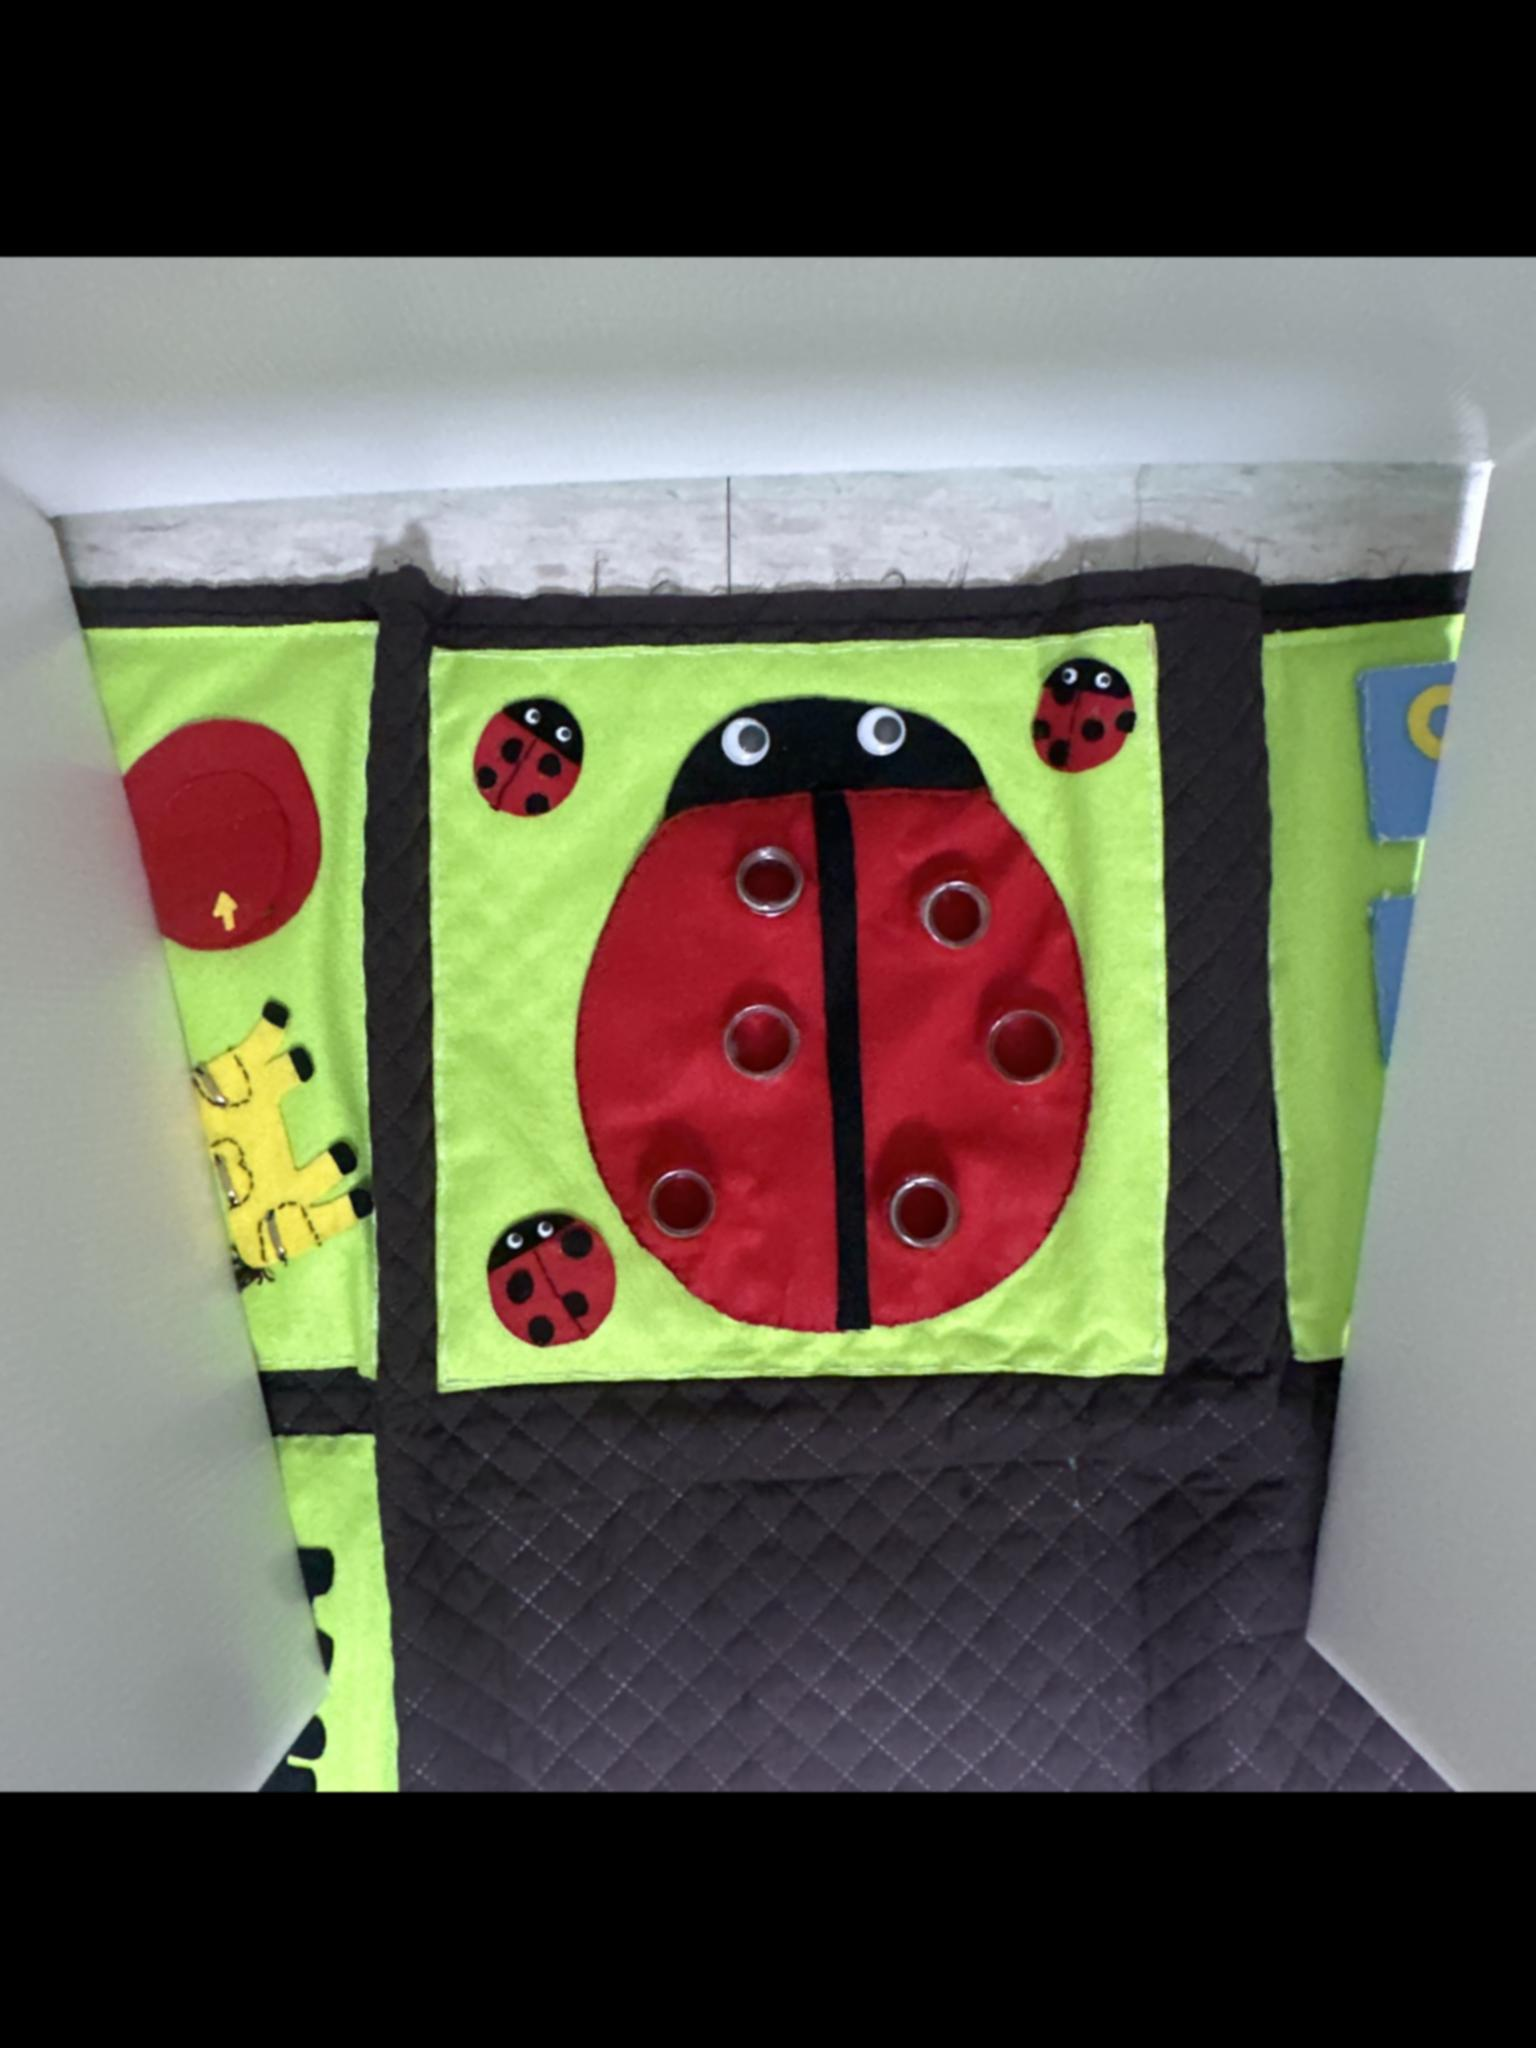hole: (724, 997, 805, 1080), (983, 1006, 1066, 1080), (647, 1166, 720, 1235), (918, 879, 994, 945), (734, 843, 810, 910), (889, 1179, 960, 1242)
ladybug_case: (568, 681, 1105, 1340)
